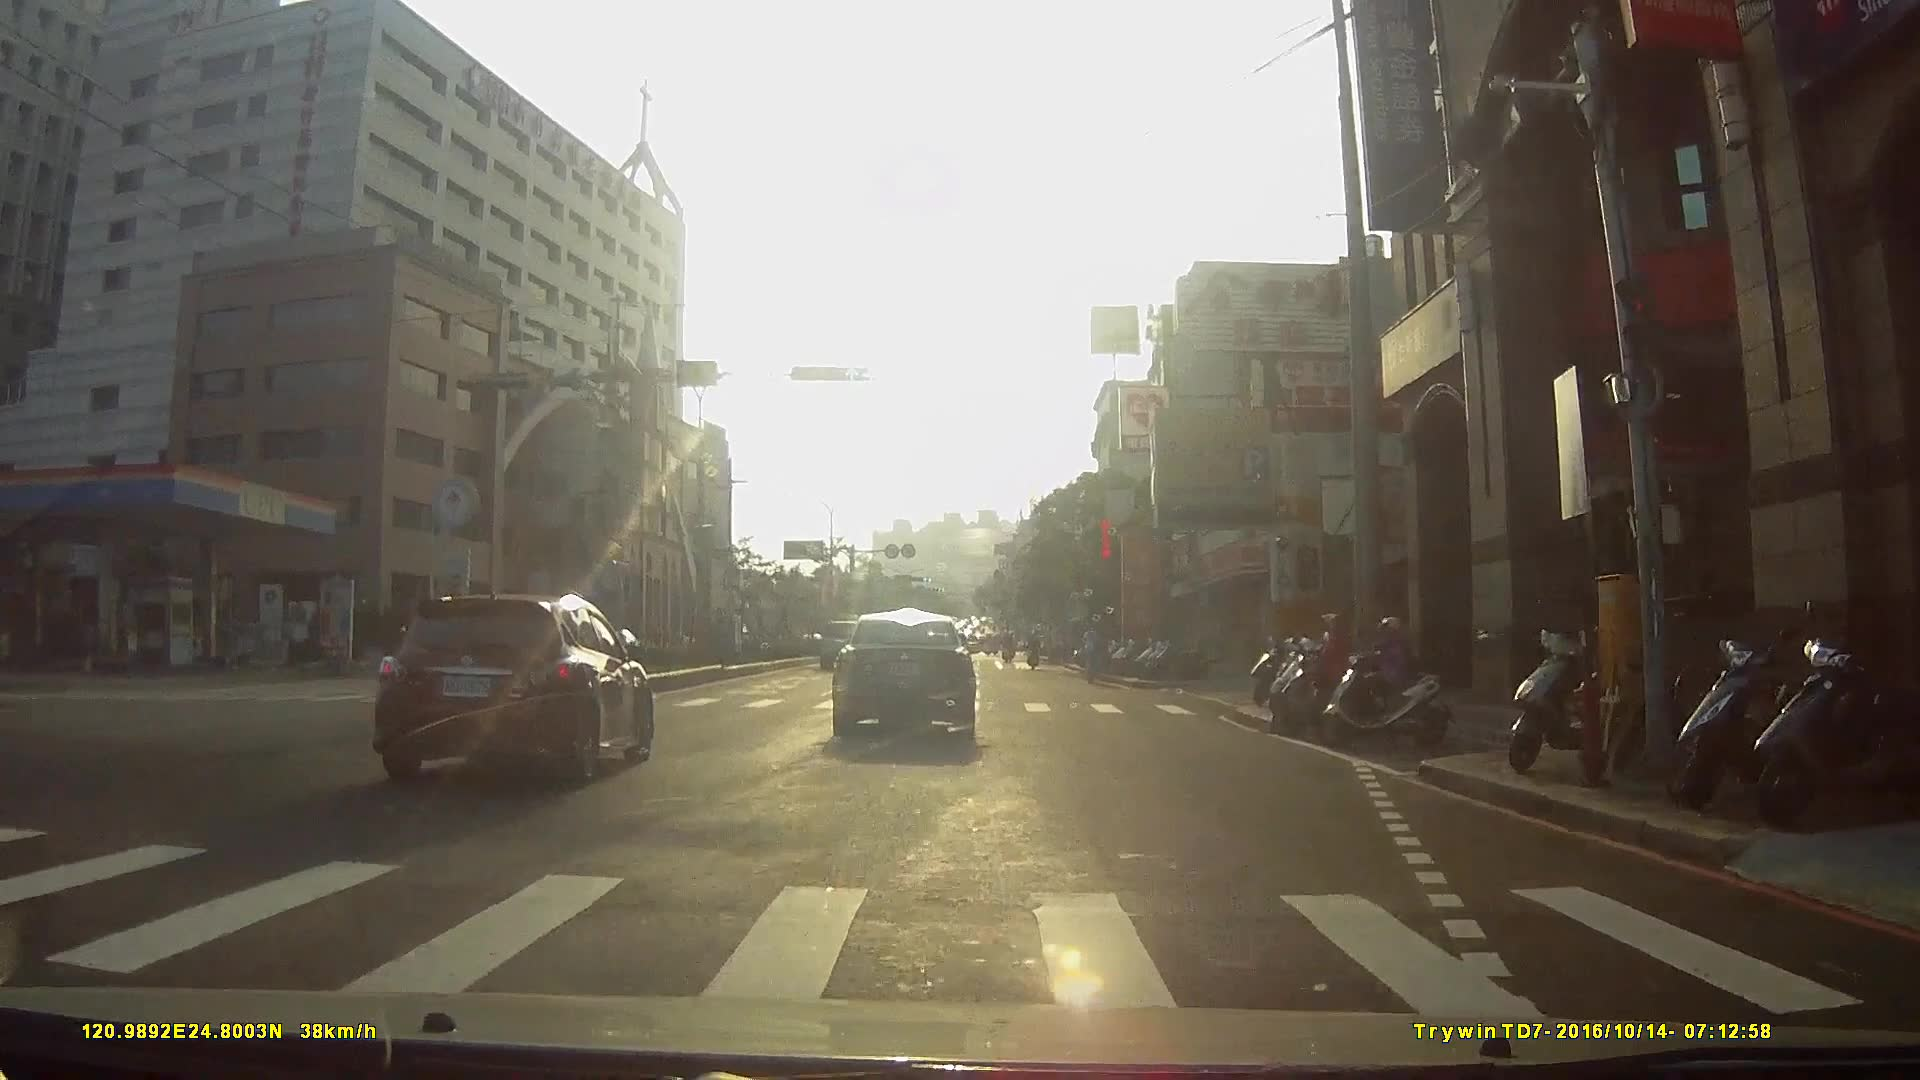rider: (1314, 609, 1456, 757), (1261, 611, 1371, 730)
vehicle: (369, 584, 663, 783), (834, 604, 998, 745), (821, 612, 880, 667)
